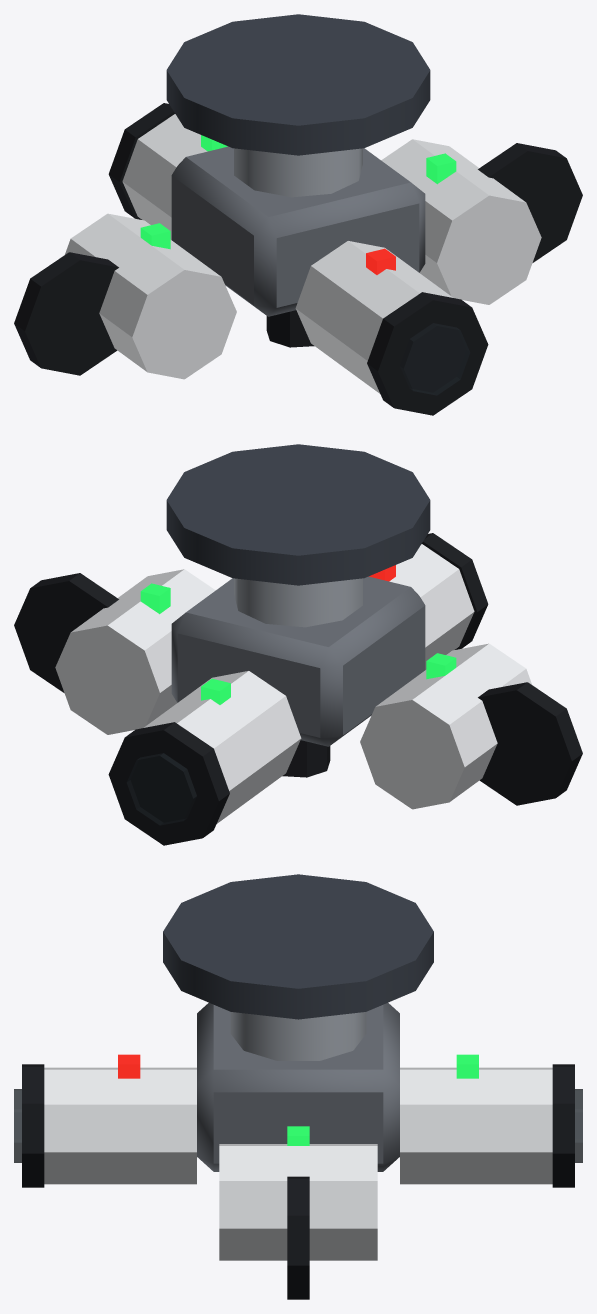
The model's file is camera_cluster_ceiling.glb.
3 renders of one model, top to bottom at view 1: azimuth 30°, elevation 25°; view 2: azimuth 150°, elevation 25°; view 3: azimuth 270°, elevation 25°, orthographic. The views are drawn at different scales.
Visible parts, largest first — view 1: camera_cluster_ceiling; view 2: camera_cluster_ceiling; view 3: camera_cluster_ceiling.
Boxes of the visible parts, x1,y1,x2,y2 form: camera_cluster_ceiling: [14, 14, 582, 415]; camera_cluster_ceiling: [14, 444, 582, 845]; camera_cluster_ceiling: [14, 874, 582, 1299].
Size of the model in its own units: 0.586 by 0.265 by 0.504.
